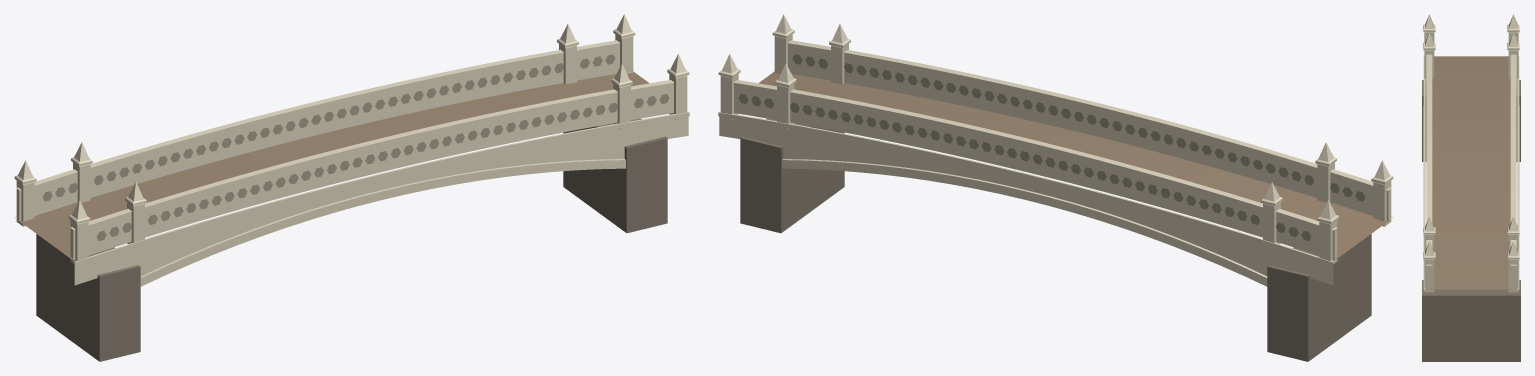
The model's file is nyc-pine-bank-arch.glb.
3 views of the same model, side by side, from view 1: azimuth 30°, elevation 25°; view 2: azimuth 150°, elevation 25°; view 3: azimuth 270°, elevation 25° (orthographic). The views are drawn at different scales.
Parts seen in each view (by area): view 1: Pine Bank Arch; view 2: Pine Bank Arch; view 3: Pine Bank Arch.
Boxes of the visible parts, x1,y1,x2,y2 form: Pine Bank Arch: (14,14,689,361); Pine Bank Arch: (718,14,1393,361); Pine Bank Arch: (1422,14,1520,361).
Bounding box in the file's own units: 24 × 6.24 × 4.3.
